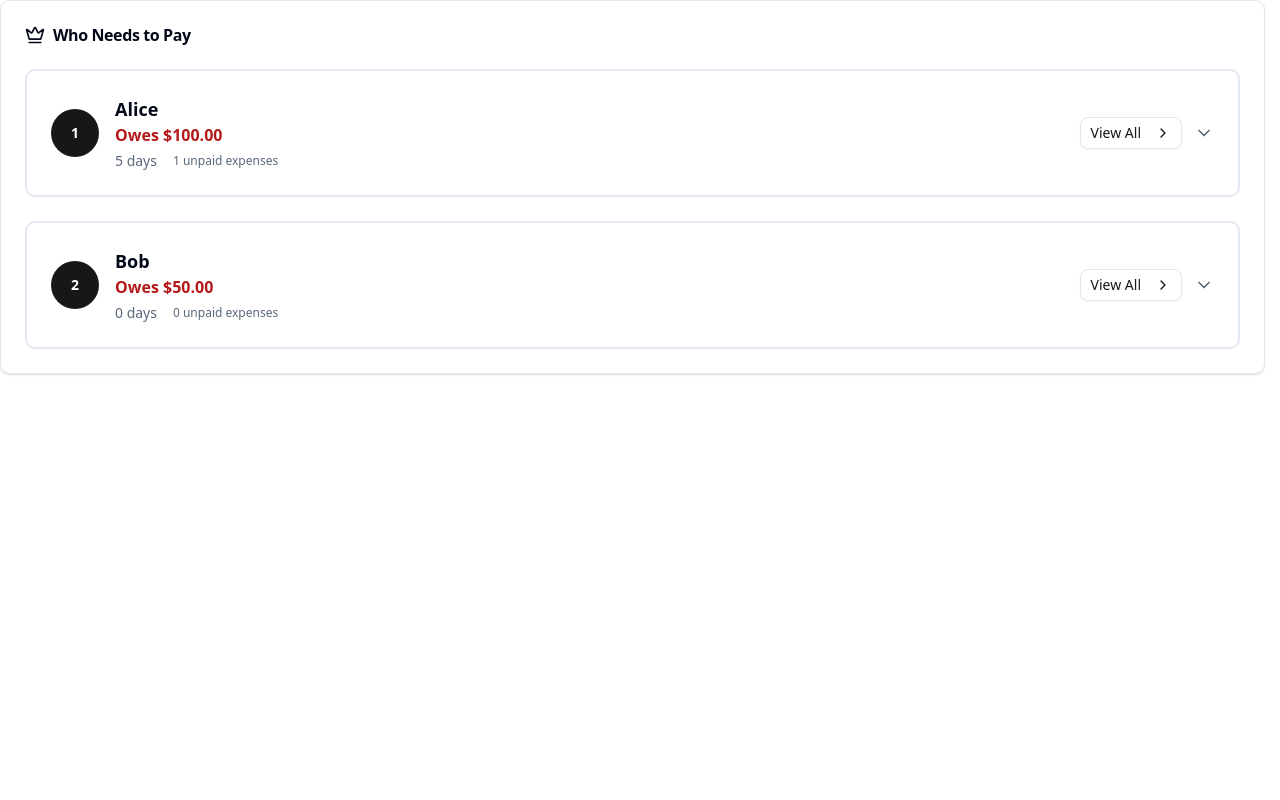
DebtorsTab › toggles expansion closed on second click
Click the button with test id "debtor-expand-toggle-1" at x=75, y=133, box [51, 97, 1214, 170]
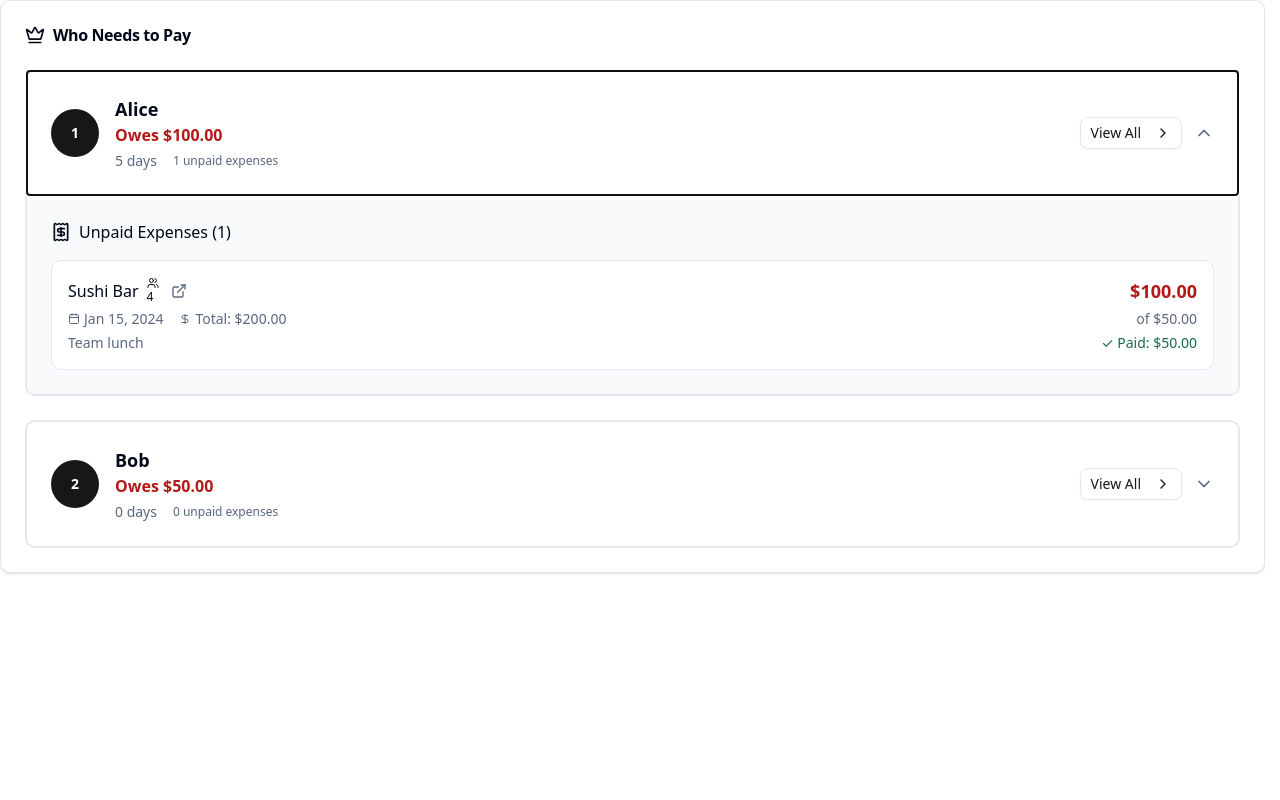
Check: the heading "Unpaid Expenses (1)" is shown, box [51, 221, 231, 243]
Click the button with test id "debtor-expand-toggle-1" at x=75, y=133, box [51, 97, 1214, 170]
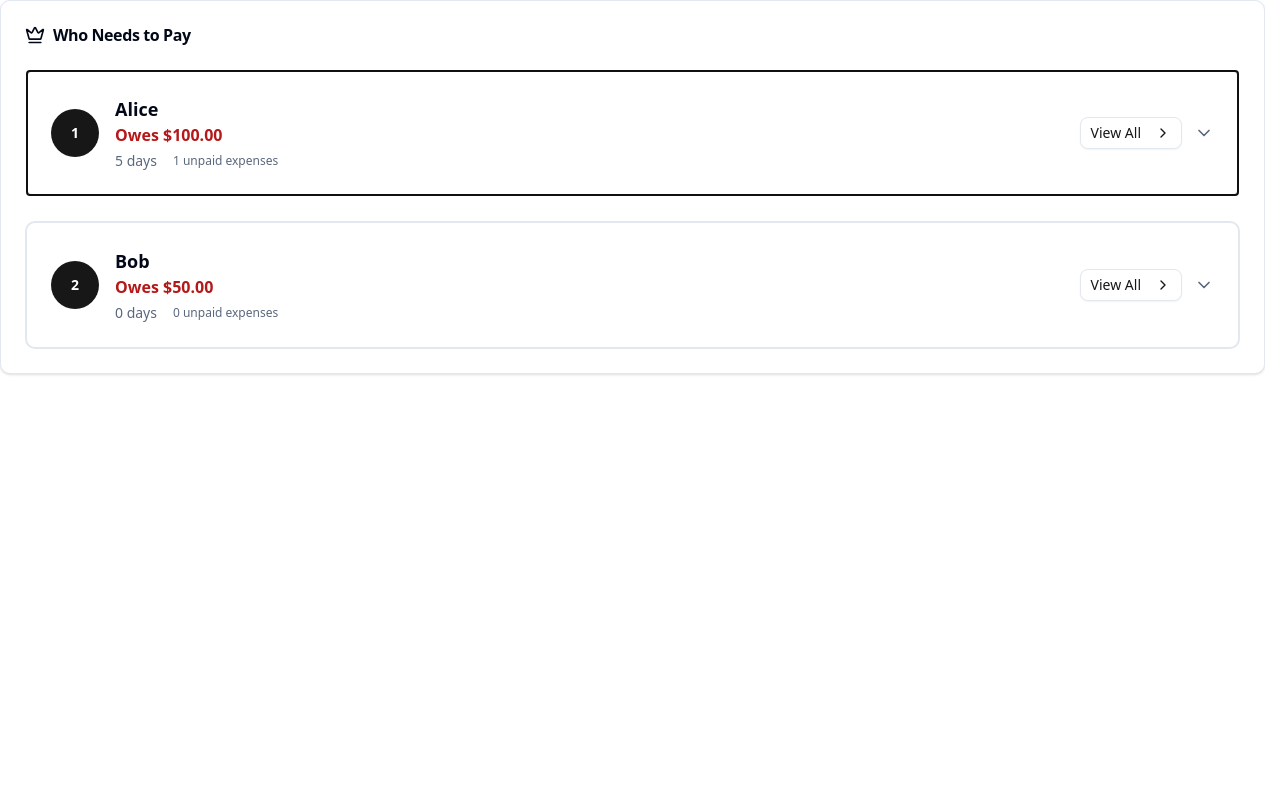
Check: the heading "Unpaid Expenses (1)" is gone
